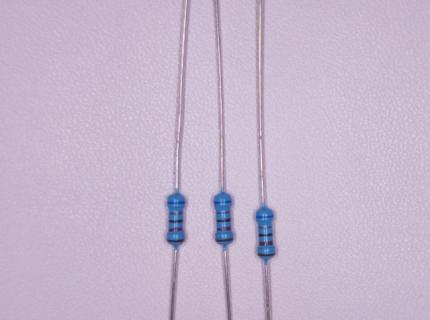Black band: (216, 218, 231, 223), (169, 219, 184, 223), (258, 233, 273, 237)
Blue band: (256, 214, 274, 219), (214, 200, 233, 204), (168, 201, 185, 204)
Brown band: (215, 238, 233, 243), (257, 253, 276, 257), (166, 239, 184, 243)
Grey band: (168, 211, 184, 215), (258, 226, 273, 230), (216, 211, 231, 214)
Red band: (258, 241, 274, 246), (168, 228, 184, 232), (217, 227, 232, 231)
